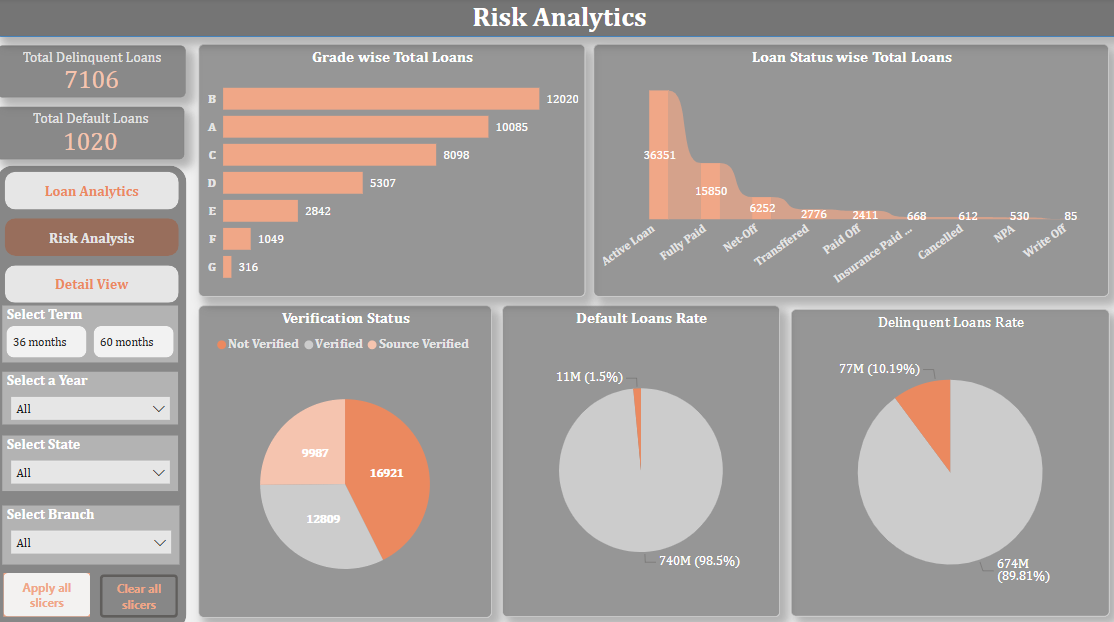

Layout of this report page (visuals, bound fields, positions):
{"tool":"tableau","page":{"name":"Risk Analysis","canvas":[1000,1000],"units":"permille","ordinal":1},"visuals":[{"type":"text","box":[4.8,10,854.6,78.2]},{"type":"dashboard-object","box":[859.4,10,135.8,78.2]},{"type":"worksheet","title":"Default loan count","mark":"Automatic","box":[4.8,88.2,126.1,120.2]},{"type":"worksheet","title":"Loan Status","mark":"Automatic","rows":["Loan Status"],"cols":["Loan Amount"],"box":[130.9,88.2,864.3,462.3]},{"type":"worksheet","title":"Delinquent Count","mark":"Automatic","box":[4.8,208.4,126.1,118.2]},{"type":"filter","title":"VerificationStatus ","param":"[federated.0yds4hb18ijchr19jztn01kqfz8w].[none:Gender ID:nk]","box":[4.8,326.7,126.1,94.1]},{"type":"filter","title":"VerificationStatus ","param":"[federated.0yds4hb18ijchr19jztn01kqfz8w].[none:Disbursement Date (Years):nk]","box":[4.8,420.8,126.1,129.7]},{"type":"worksheet","title":"VerificationStatus ","mark":"Circle","box":[4.8,550.5,343.6,439.5]},{"type":"worksheet","title":"Delinquent loan","mark":"Pie","box":[348.5,550.5,354.4,439.5]},{"type":"worksheet","title":"Default Loan","mark":"Pie","box":[702.9,550.5,292.3,439.5]}]}

Visuals, with their boxes on the dashboard's canvas, which has no fixed pixel size, in thousandths of its width and height (x1, y1, x2, y2). These are canvas units, not pixel positions in the 1114x622 screenshot, which may show the page scaled, cropped or inside an application window:
text: [x1=5, y1=10, x2=859, y2=88]
dashboard-object: [x1=859, y1=10, x2=995, y2=88]
"Default loan count" worksheet: [x1=5, y1=88, x2=131, y2=208]
"Loan Status" worksheet: [x1=131, y1=88, x2=995, y2=550]
"Delinquent Count" worksheet: [x1=5, y1=208, x2=131, y2=327]
"VerificationStatus " filter: [x1=5, y1=327, x2=131, y2=421]
"VerificationStatus " filter: [x1=5, y1=421, x2=131, y2=550]
"VerificationStatus " worksheet (Circle marks): [x1=5, y1=550, x2=348, y2=990]
"Delinquent loan" worksheet (Pie marks): [x1=348, y1=550, x2=703, y2=990]
"Default Loan" worksheet (Pie marks): [x1=703, y1=550, x2=995, y2=990]
